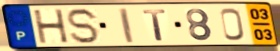0: (219, 7, 247, 41)
8: (185, 8, 214, 42)
H: (31, 8, 71, 45)
I: (117, 7, 136, 44)
S: (66, 7, 102, 45)
T: (141, 8, 169, 42)
